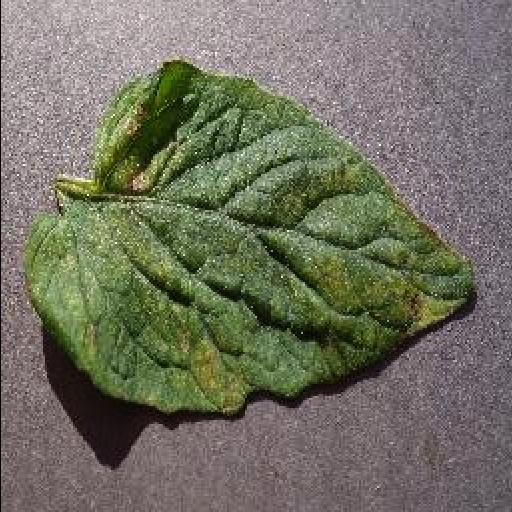disease_tomato: (24, 58, 474, 414)
